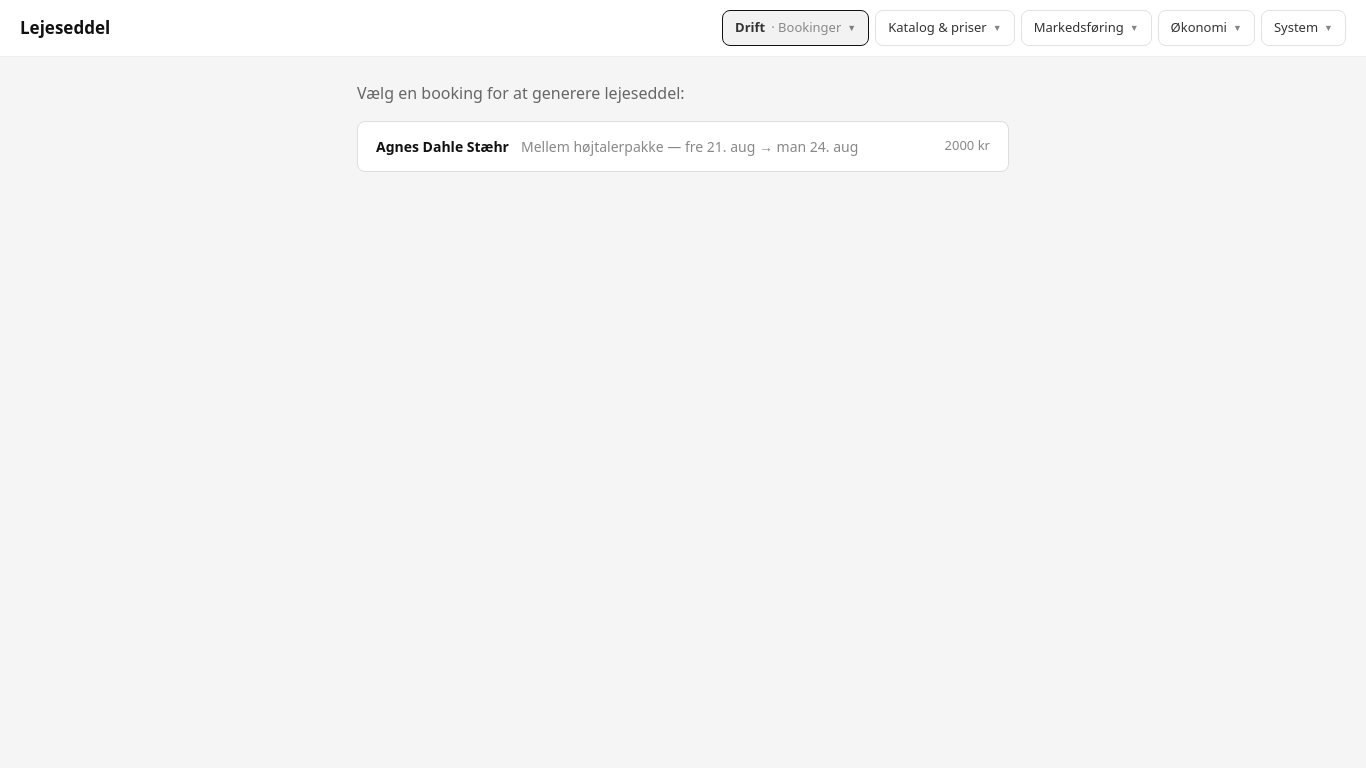
Test: Lejesedlen › bærer en underskriftslinje til kunden — og kun til kunden
The image size is (1366, 768).
Click the button "Agnes Dahle Stæhr".
click(683, 146)  # box x1=357 y1=120 x2=1009 y2=172
(page scrolled)
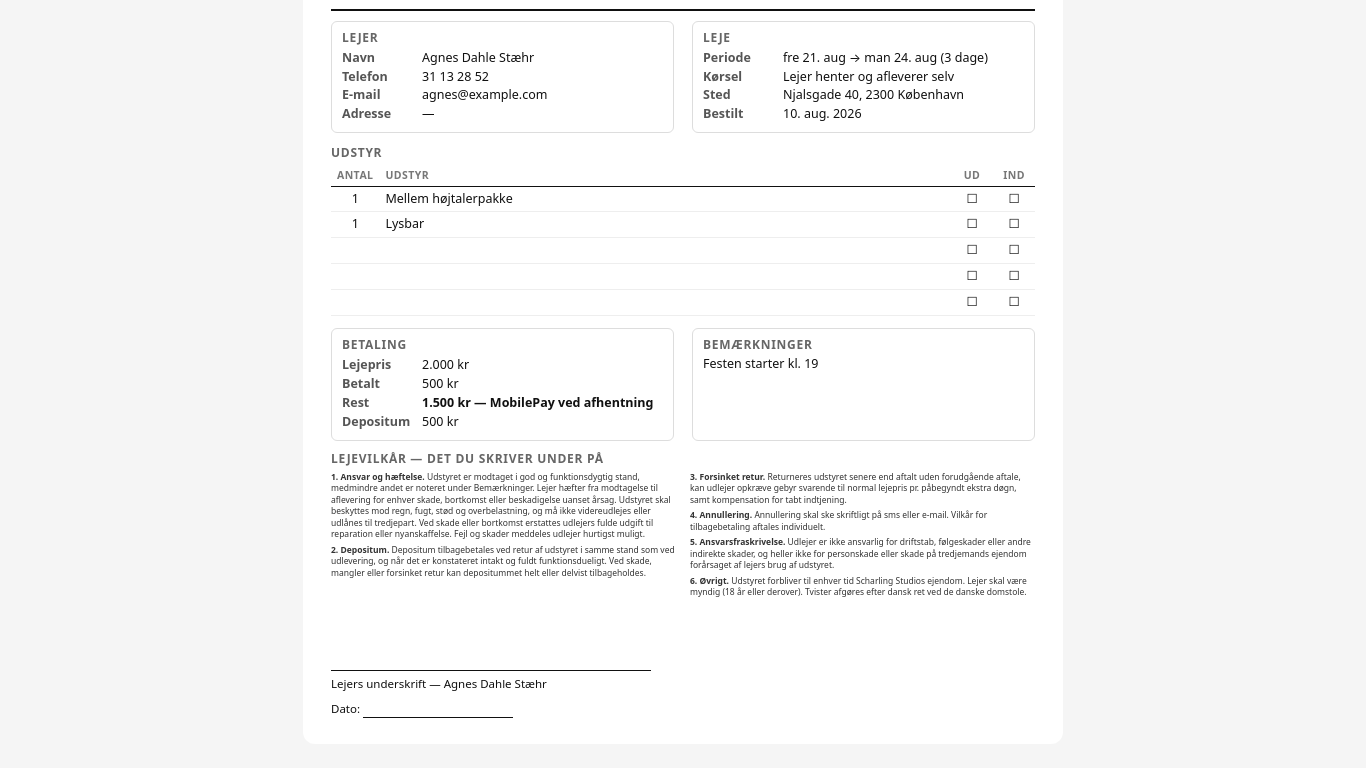
Now the text "Lejers underskrift — Agnes Dahle Stæhr" is shown, box x1=331 y1=670 x2=651 y2=691
